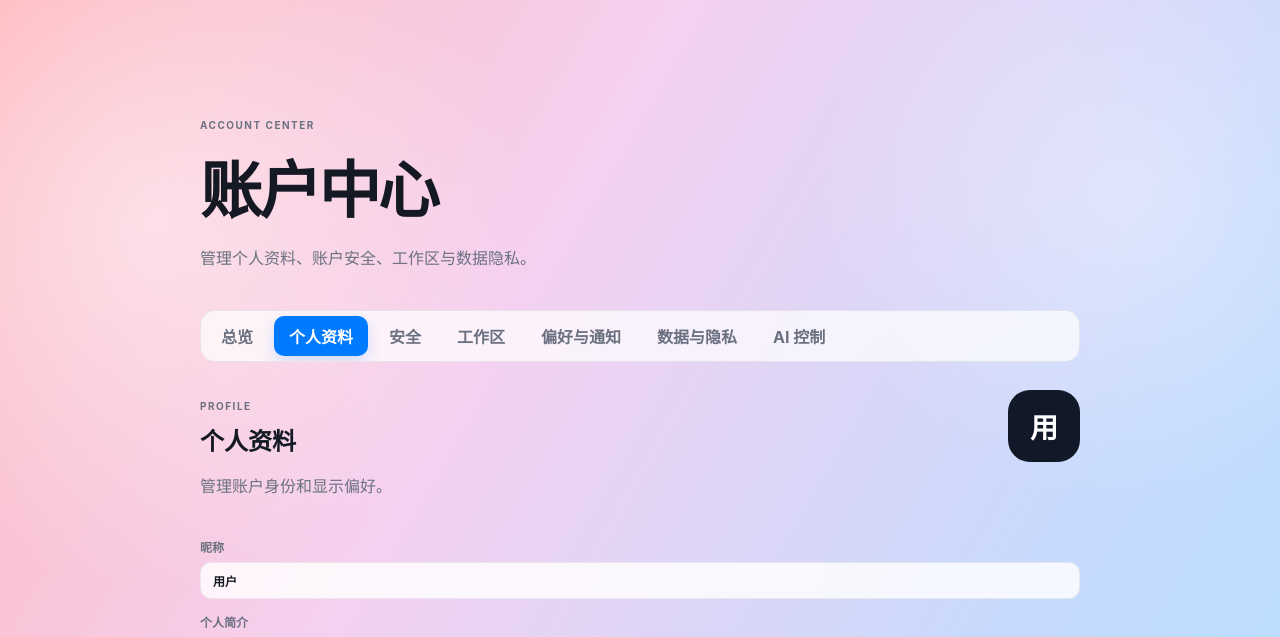
Test: AccountCenter › keeps controlled dirty profile values across tabs and command failure
Replace the text in the field labelled "昵称" with "新昵称" at (640, 580), box [200,562,1080,599]
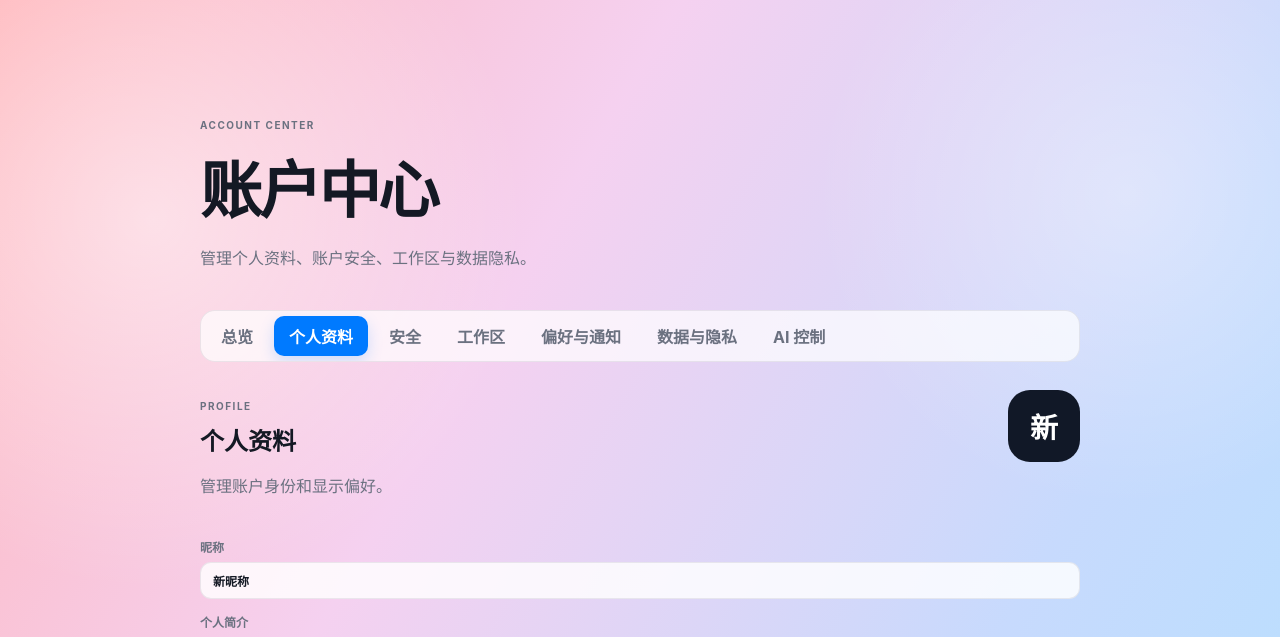
Click the tab "安全" at (405, 336), box [374,316,436,356]
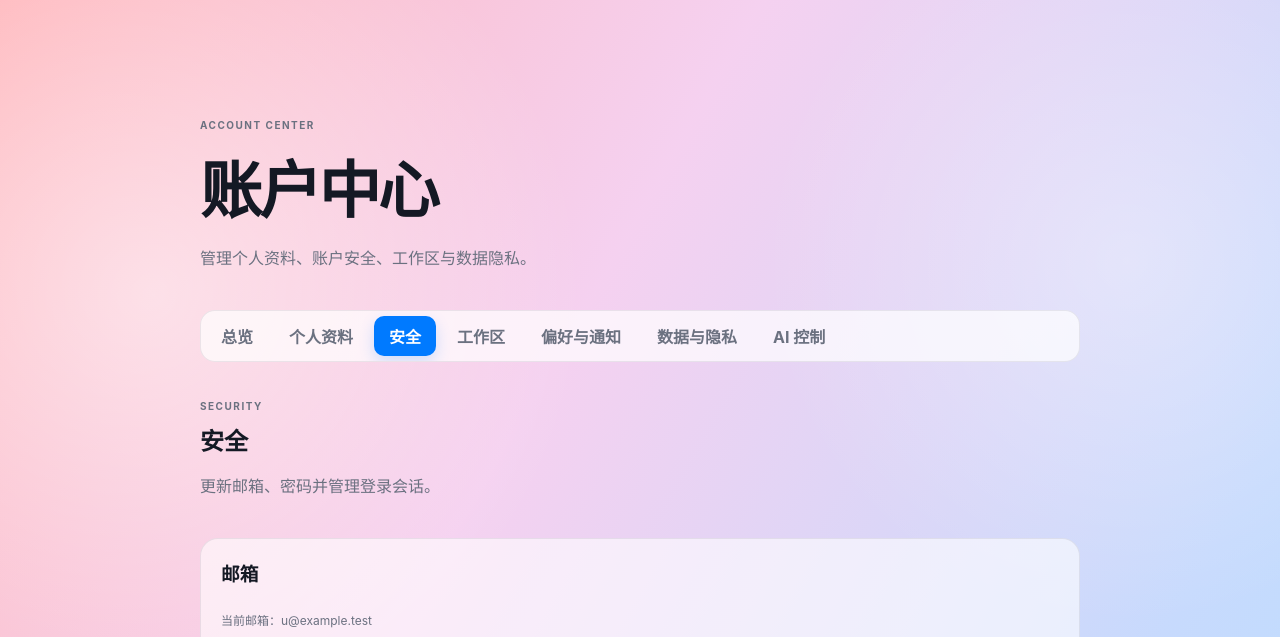
Click the tab "个人资料" at (321, 336), box [274,316,368,356]
(page scrolled)
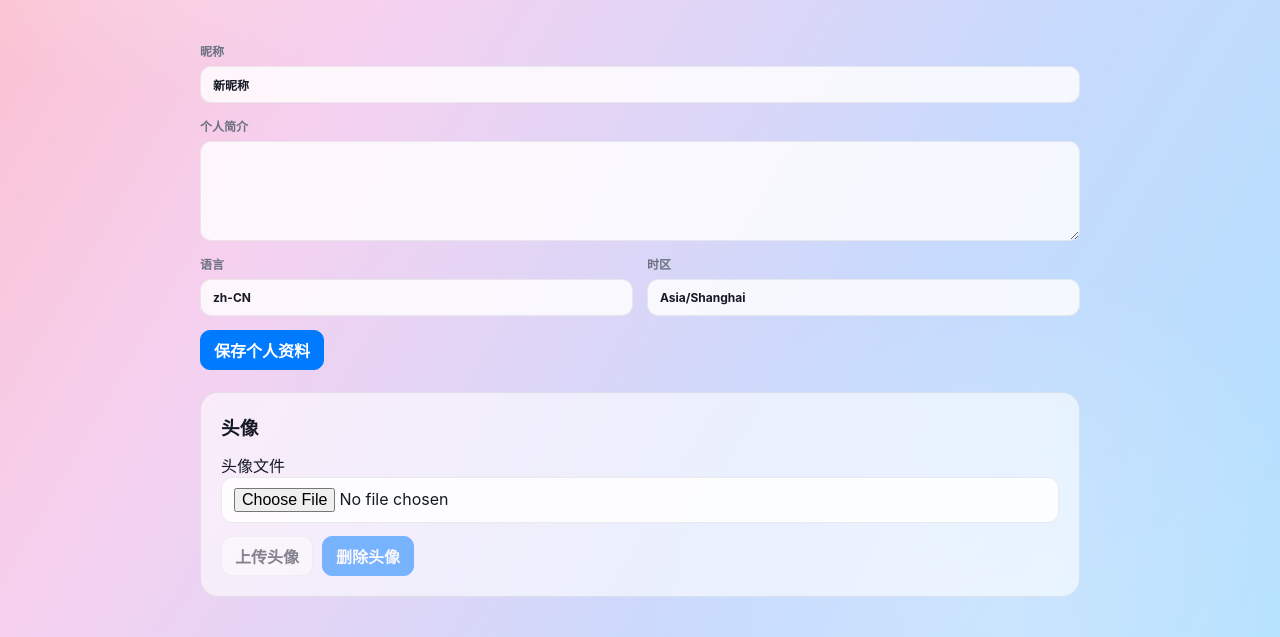
Click the button "保存个人资料" at (262, 350), box [200,330,324,370]
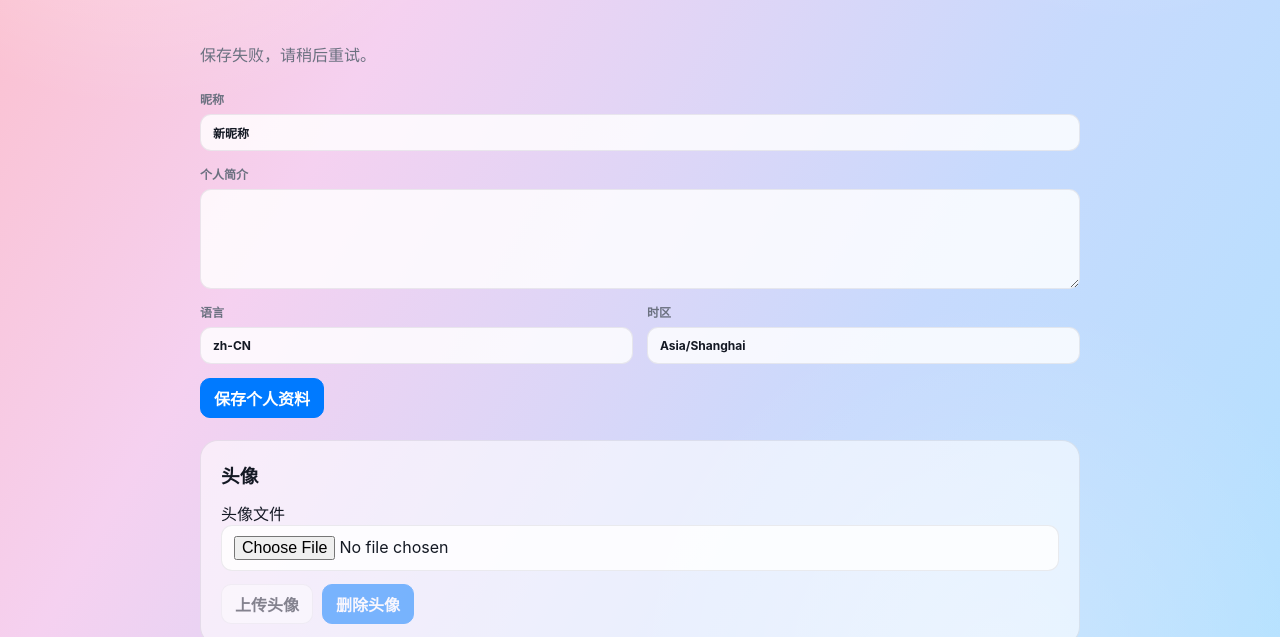
Expected: the message shows "保存失败", [200,45,376,65]
